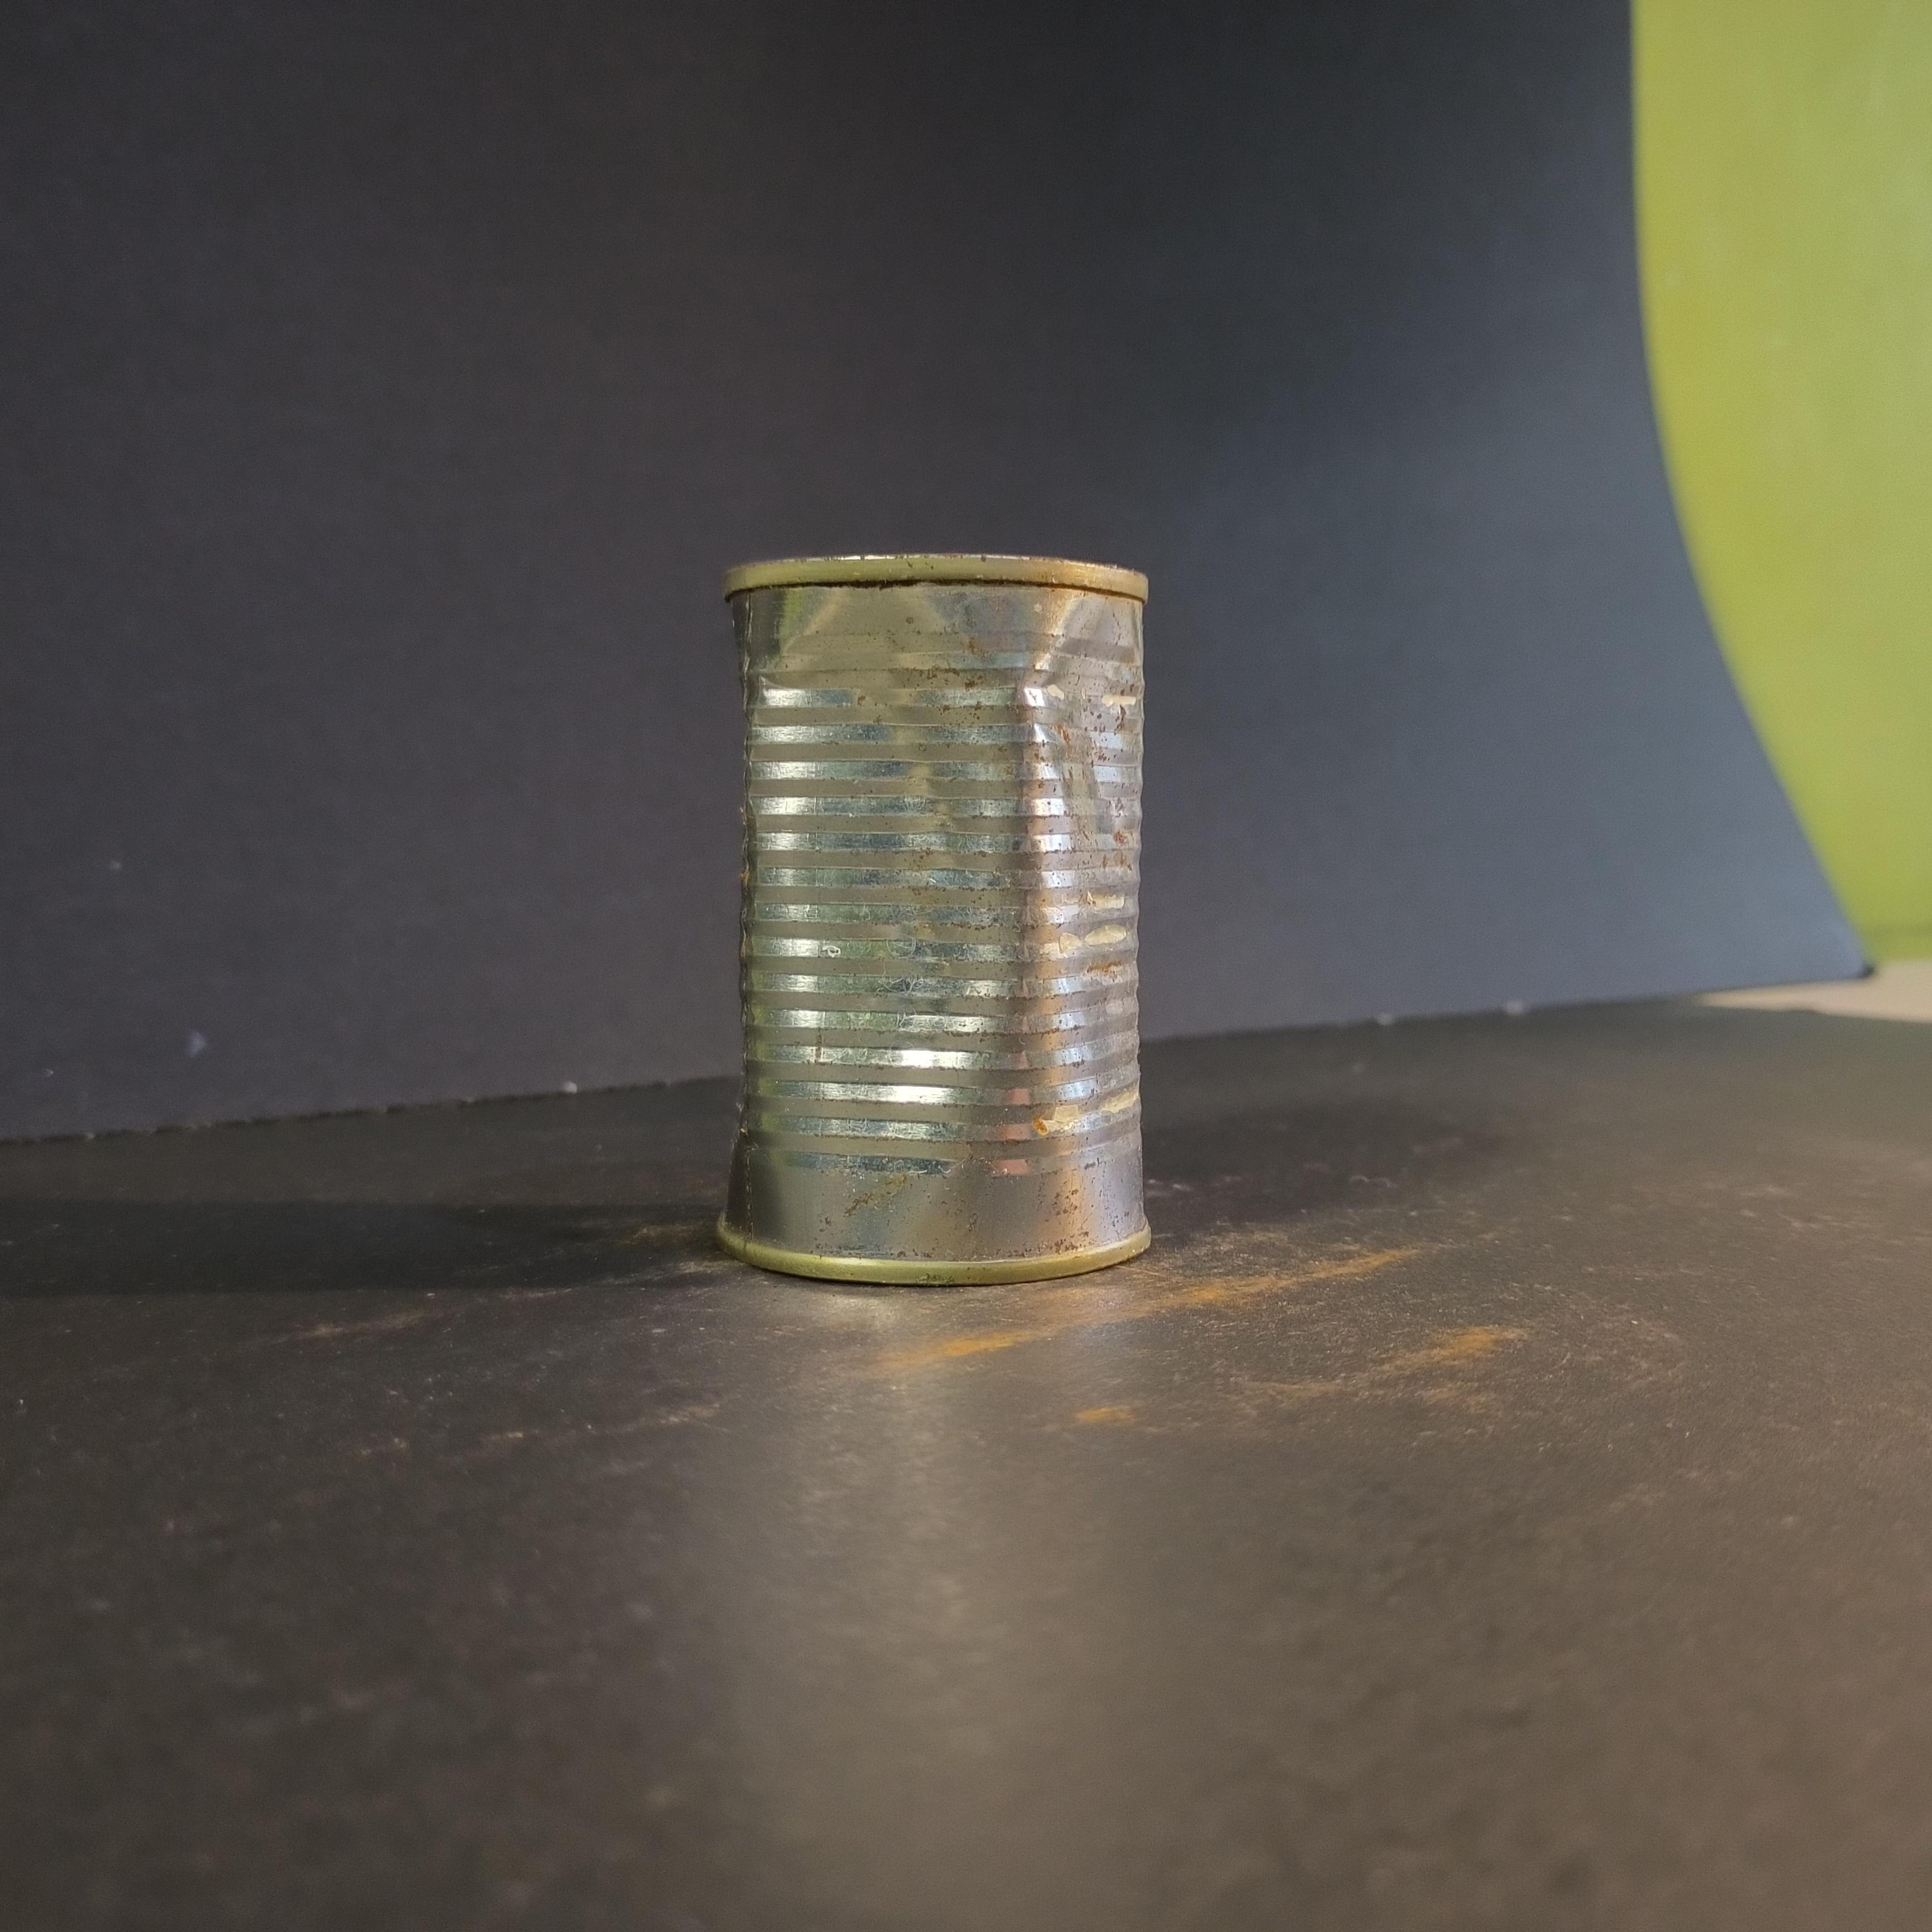Dented: (681, 518, 1196, 1293)
